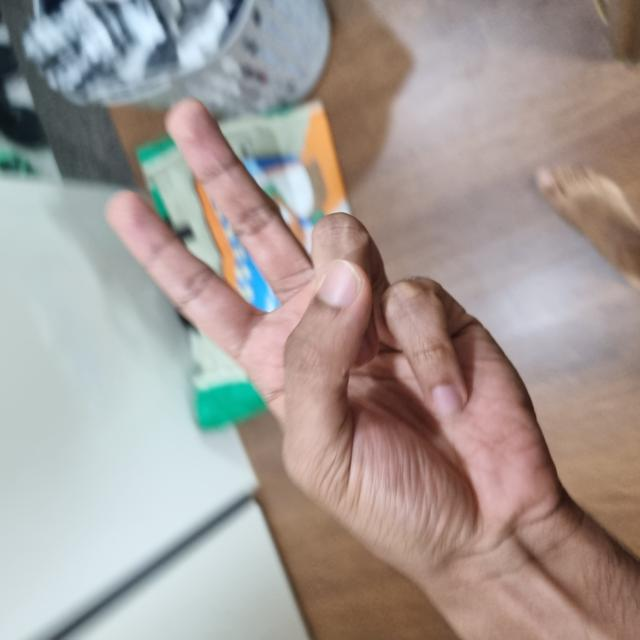Scissors: (0, 106, 640, 639)
